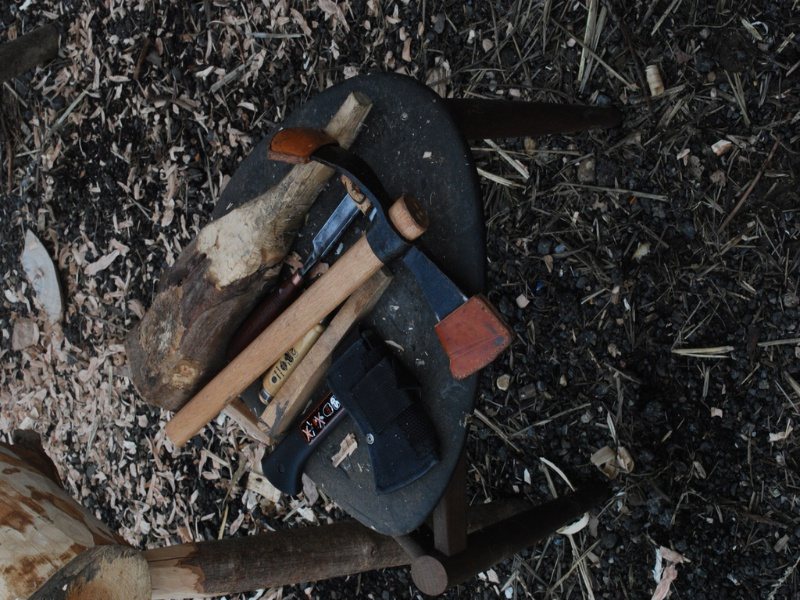axe: (264, 121, 514, 390), (305, 331, 448, 496)
